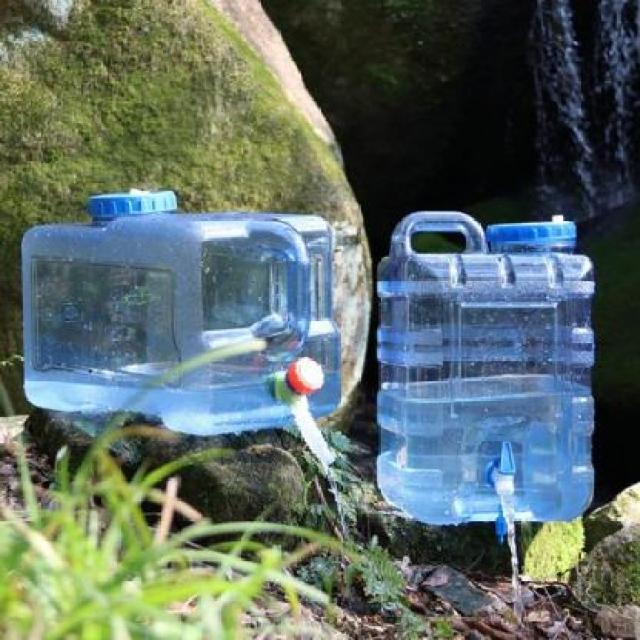coolerbottle: (15, 186, 348, 439), (370, 201, 602, 537)
